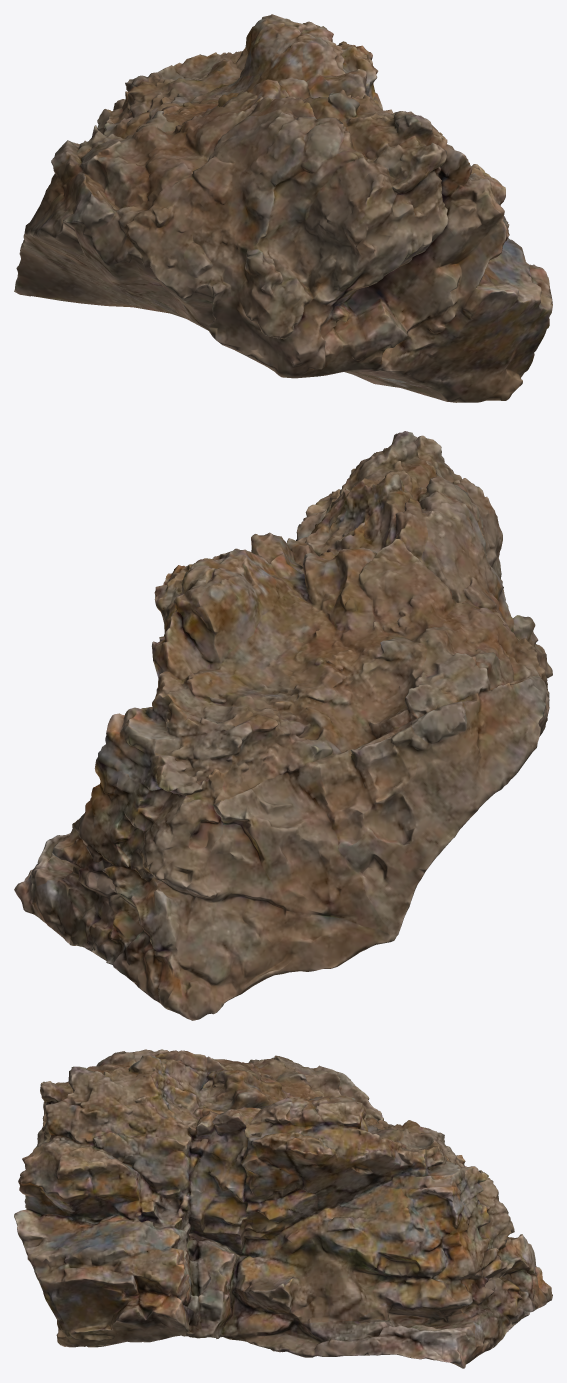
Rendered from boulder_01.glb.
3 renders of one model, top to bottom at view 1: azimuth 30°, elevation 25°; view 2: azimuth 150°, elevation 25°; view 3: azimuth 270°, elevation 25°, orthographic. The views are drawn at different scales.
Parts seen in each view (by area): view 1: boulder_01; view 2: boulder_01; view 3: boulder_01.
Boxes of the visible parts, x1,y1,x2,y2 form: boulder_01: (14,14,552,402); boulder_01: (14,431,552,1020); boulder_01: (14,1049,552,1368).
Bounding box in the file's own units: 1.27 × 1 × 1.83.
Materials: 1 (1 with a texture image).
